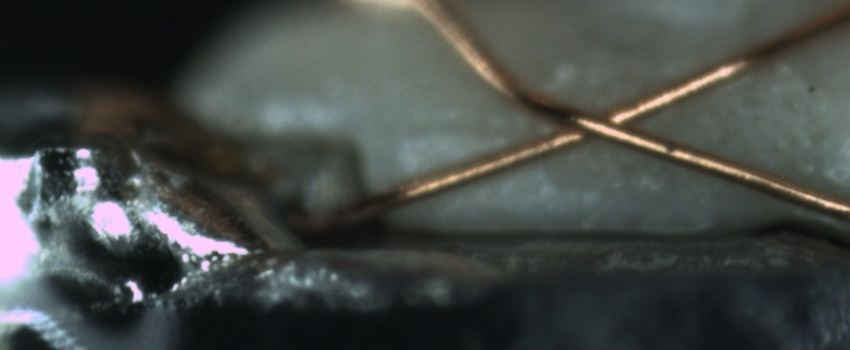CL: (514, 76, 682, 158)
DL: (396, 104, 516, 165)
